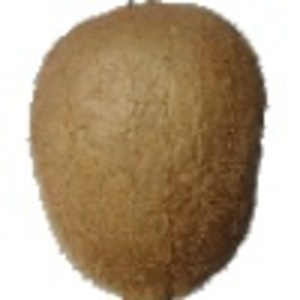kiwi: (27, 1, 270, 300)
